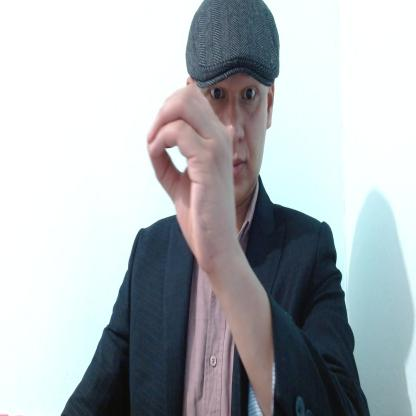O: (145, 84, 237, 263)
